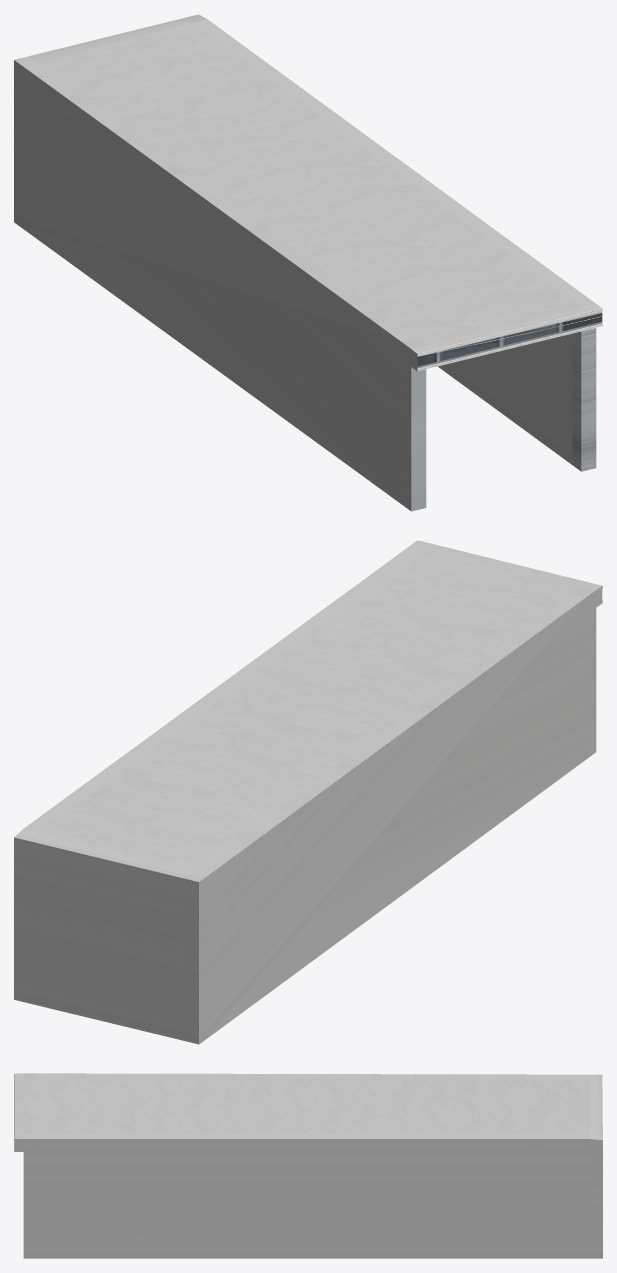
File: Floor2Ceiling.fbx
3 renders of one model, top to bottom at view 1: azimuth 30°, elevation 25°; view 2: azimuth 150°, elevation 25°; view 3: azimuth 270°, elevation 25°, orthographic. The views are drawn at different scales.
Visible parts, largest first — view 1: Floor2_Wall; view 2: Floor2_Wall; view 3: Floor2_Wall.
Part boxes in pixels (x1,y1,x2,y2): Floor2_Wall: (14, 14, 602, 511); Floor2_Wall: (14, 540, 602, 1044); Floor2_Wall: (14, 1073, 602, 1258).
Size of the model in its own units: 455 by 385 by 1720.
Materials: 2 (2 with a texture image).
